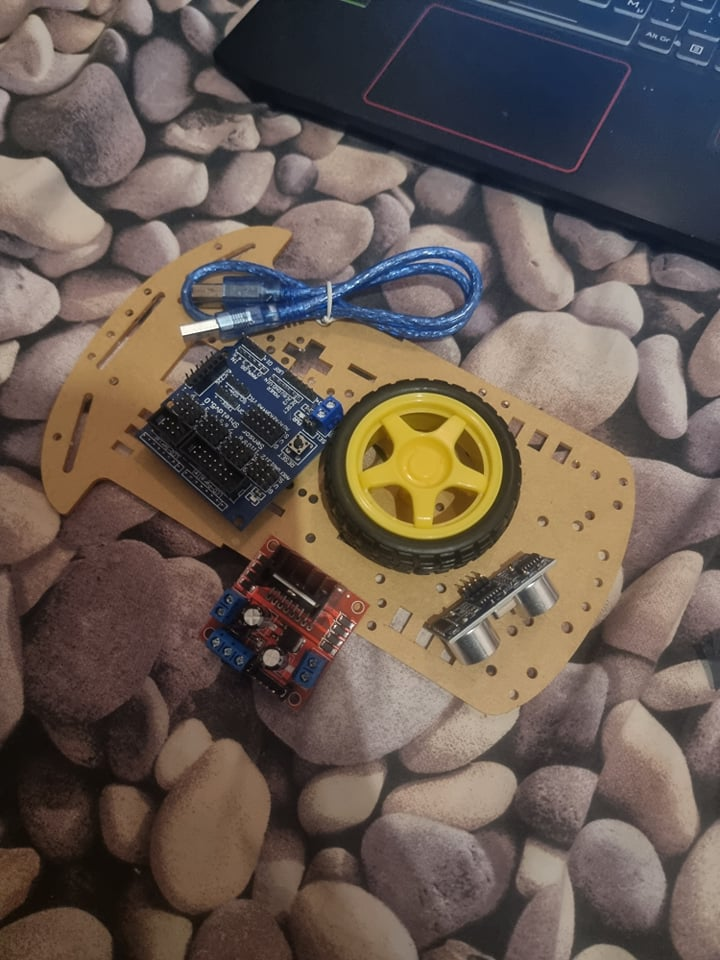5V EXPANSION: (131, 335, 343, 535)
MOTOR: (199, 537, 371, 713)
SENSOR: (430, 552, 560, 667)
